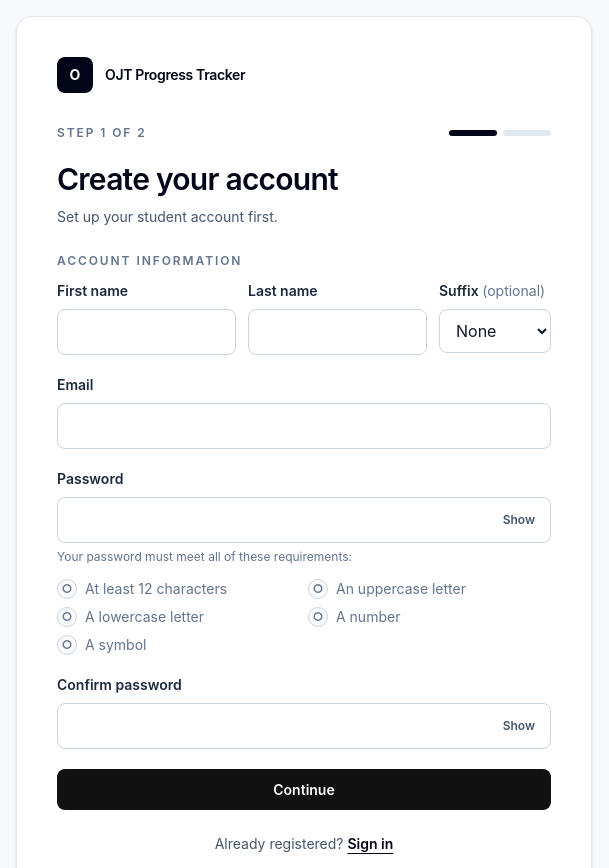
Test: RegisterView › advances to OJT setup only after valid account details
Type "New" into the field with id "register-first-name" at (146, 332), box [57,309,236,355]
Type "Student" into the field with id "register-last-name" at (338, 332), box [248,309,427,355]
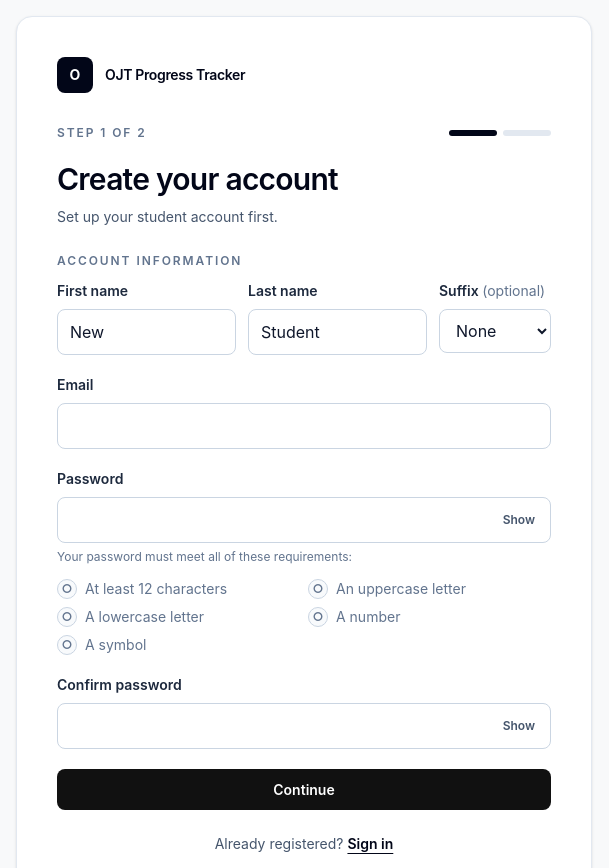
Select "Jr." in the dropdown with id "register-suffix" at (495, 331), box [439,309,551,353]
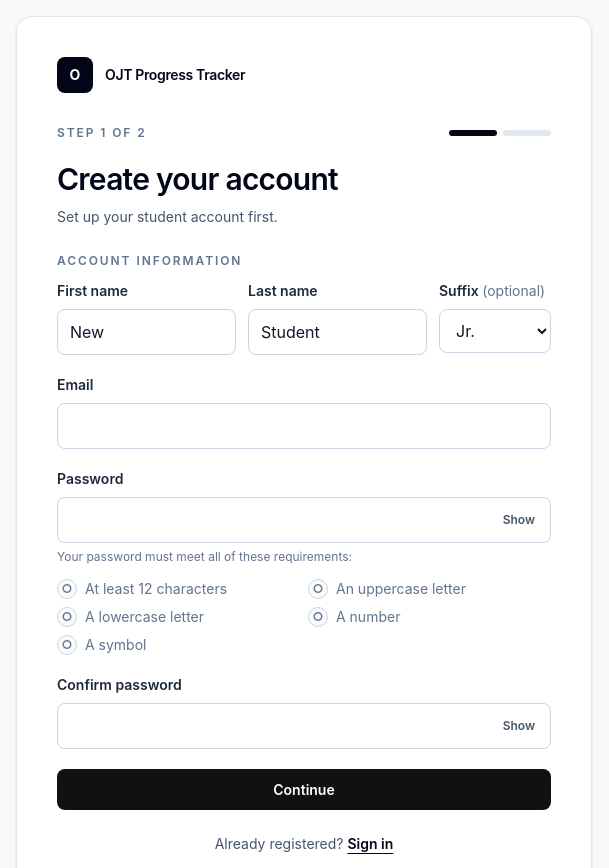
Type "new@example.com" into the field with id "register-email" at (304, 426), box [57,403,551,449]
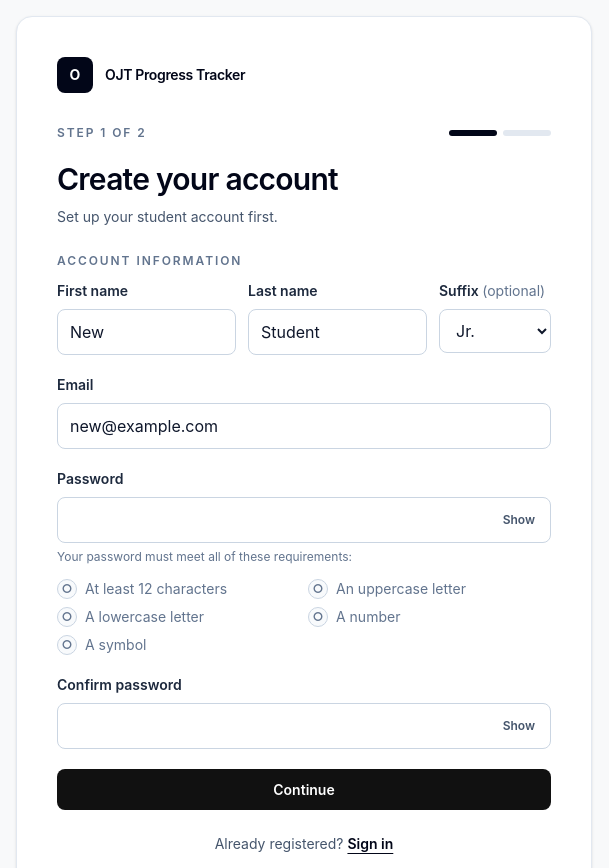
Type "StrongPassword1!" into the password field with id "register-password" at (304, 520), box [57,497,551,543]
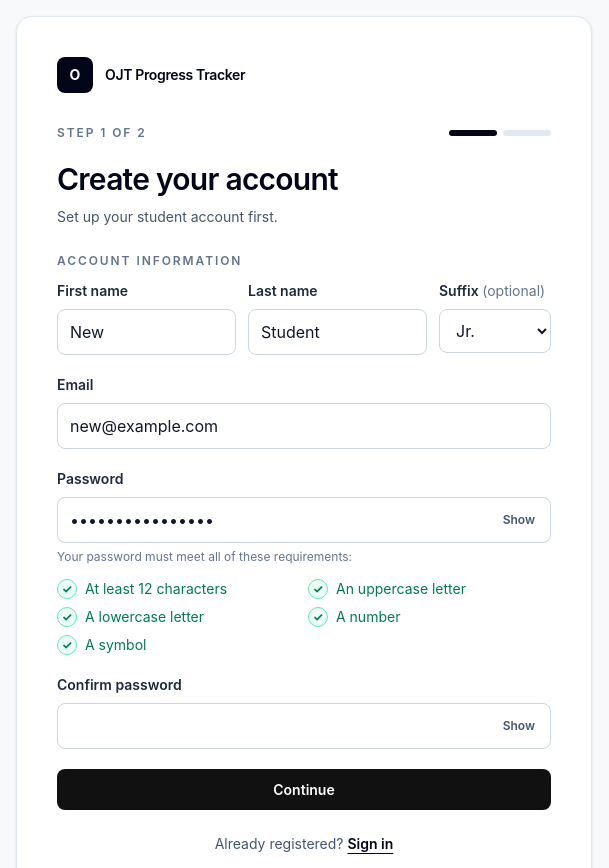
Type "StrongPassword1!" into the password field with id "register-password-confirmation" at (304, 726), box [57,703,551,749]
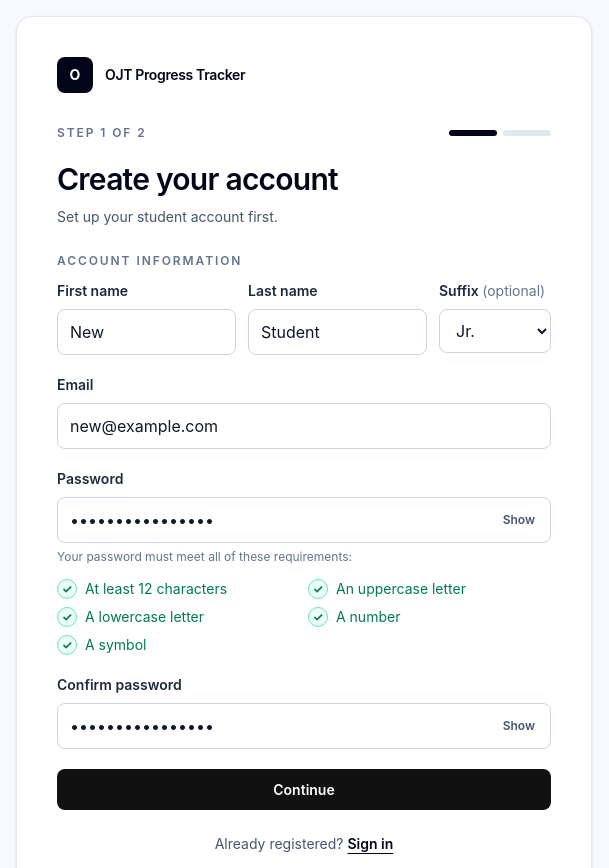
Submit the form with test id "account-setup-form", box [57,281,551,810]
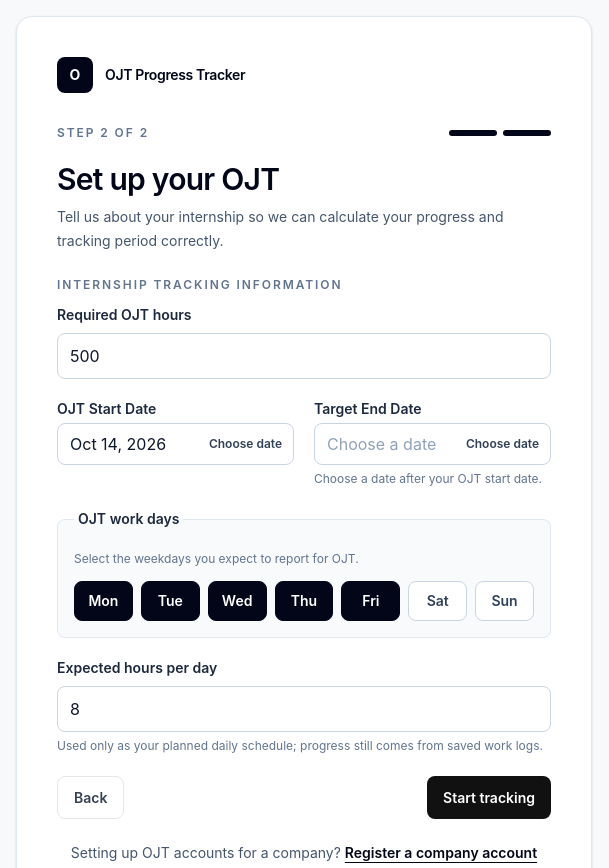
Expected: the number field with id "register-required-hours" is shown, [57,333,551,379]
Expected: the field with id "register-start-date" is shown, [57,423,294,465]
Expected: the field with id "register-end-date" is shown, [314,423,551,465]
